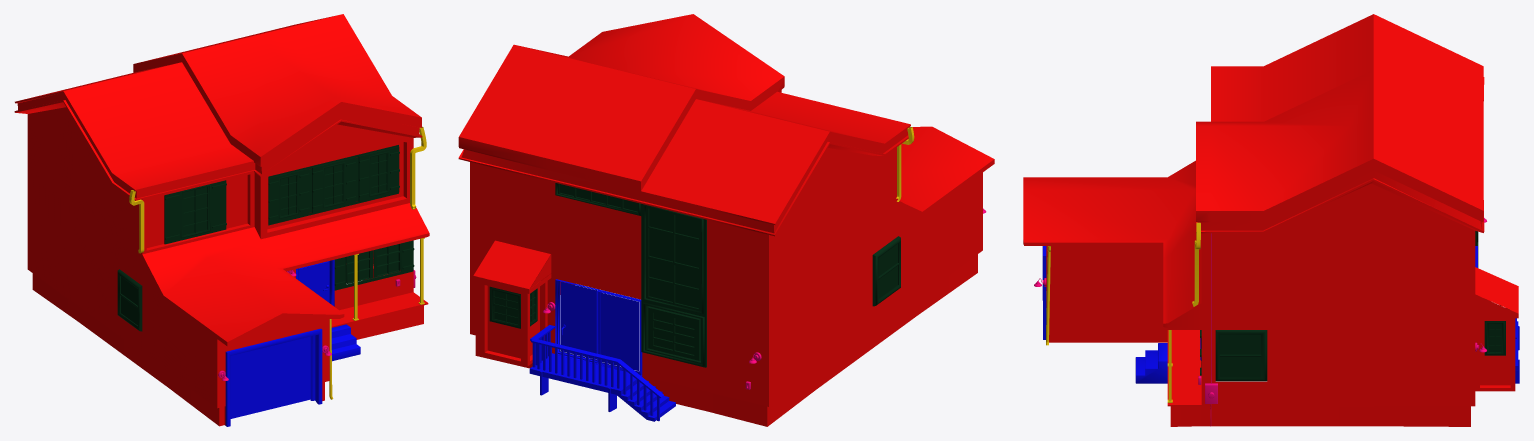
Rendered from MyHouseFinal.fbx.
3 views of the same model, side by side, from view 1: azimuth 30°, elevation 25°; view 2: azimuth 150°, elevation 25°; view 3: azimuth 270°, elevation 25° (orthographic). The views are drawn at different scales.
Parts seen in each view (by area): view 1: Building+Pipes+Electric+Lights001, FrontWindowsandDoor003, Doors001, Stairs001; view 2: Building+Pipes+Electric+Lights001, Rear Windows003, Doors001, Stairs001, FrontWindowsandDoor003; view 3: Building+Pipes+Electric+Lights001, FrontWindowsandDoor003, Stairs001, Rear Windows003, Doors001.
Part boxes in pixels (x1=…): Building+Pipes+Electric+Lights001: x1=14, y1=14, x2=429, y2=426; FrontWindowsandDoor003: x1=117, y1=145, x2=414, y2=331; Doors001: x1=225, y1=259, x2=334, y2=426; Stairs001: x1=331, y1=324, x2=360, y2=361; Building+Pipes+Electric+Lights001: x1=458, y1=14, x2=994, y2=426; Rear Windows003: x1=489, y1=183, x2=706, y2=367; Doors001: x1=555, y1=279, x2=642, y2=375; Stairs001: x1=529, y1=325, x2=675, y2=421; FrontWindowsandDoor003: x1=872, y1=236, x2=900, y2=306; Building+Pipes+Electric+Lights001: x1=1023, y1=14, x2=1518, y2=426; FrontWindowsandDoor003: x1=1200, y1=330, x2=1267, y2=381; Stairs001: x1=1135, y1=318, x2=1519, y2=383; Rear Windows003: x1=1475, y1=231, x2=1509, y2=355; Doors001: x1=1042, y1=246, x2=1477, y2=360.
Size of the model in its own units: 11.54 by 9.25 by 15.2.
